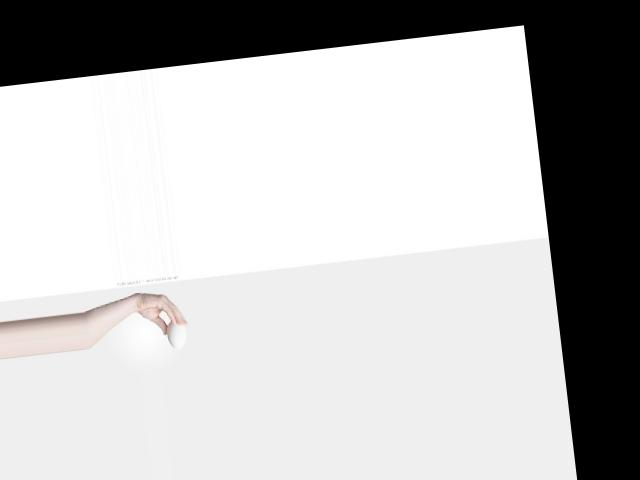egg: (164, 319, 188, 350)
